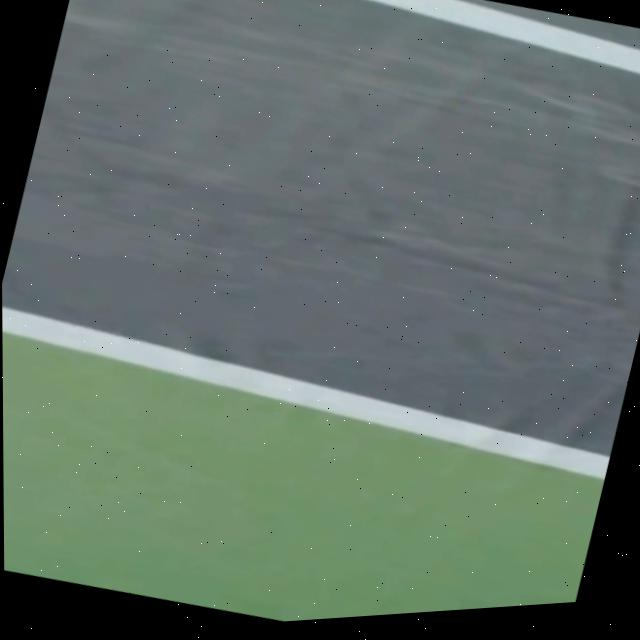center: (374, 0, 640, 72)
right: (2, 306, 609, 477)
